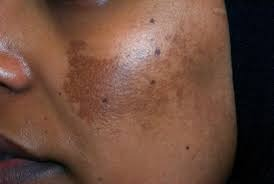Melasma: (164, 13, 221, 34)
